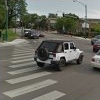crosswalk: (3, 44, 65, 100)
